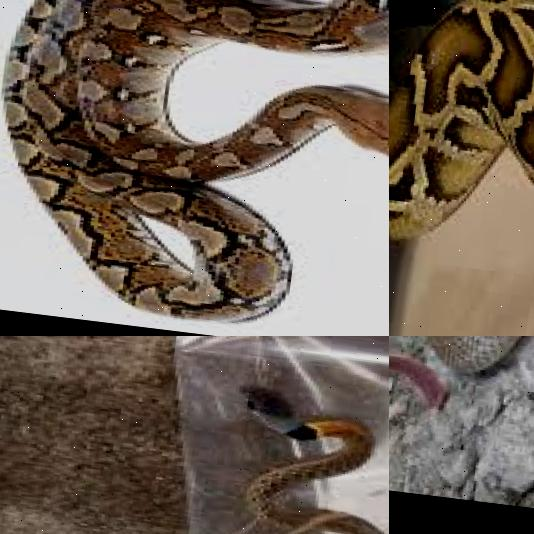snake: (0, 0, 389, 336), (389, 0, 534, 336), (202, 372, 389, 534), (404, 336, 534, 419)
